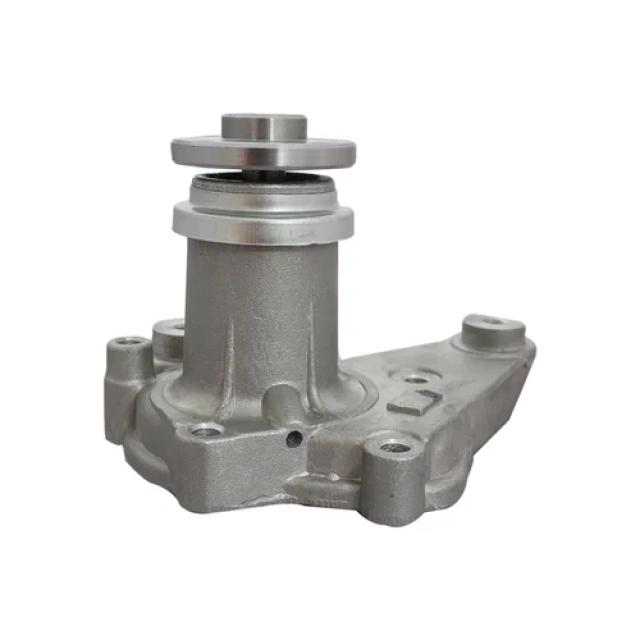video2: (98, 108, 540, 532)
